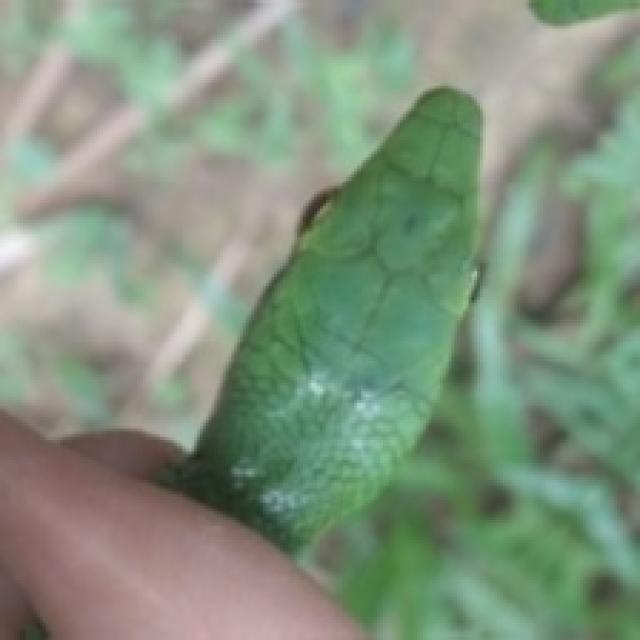red-tailed green ratsnake: (178, 90, 481, 549)
